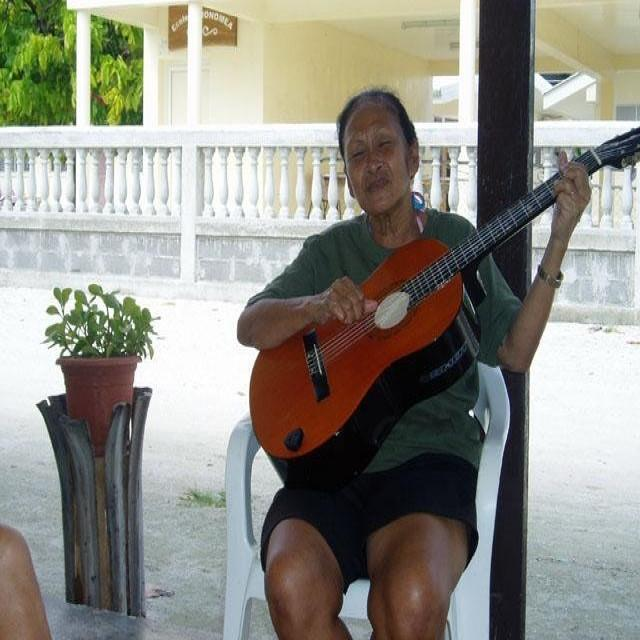guitar: (247, 124, 640, 488)
